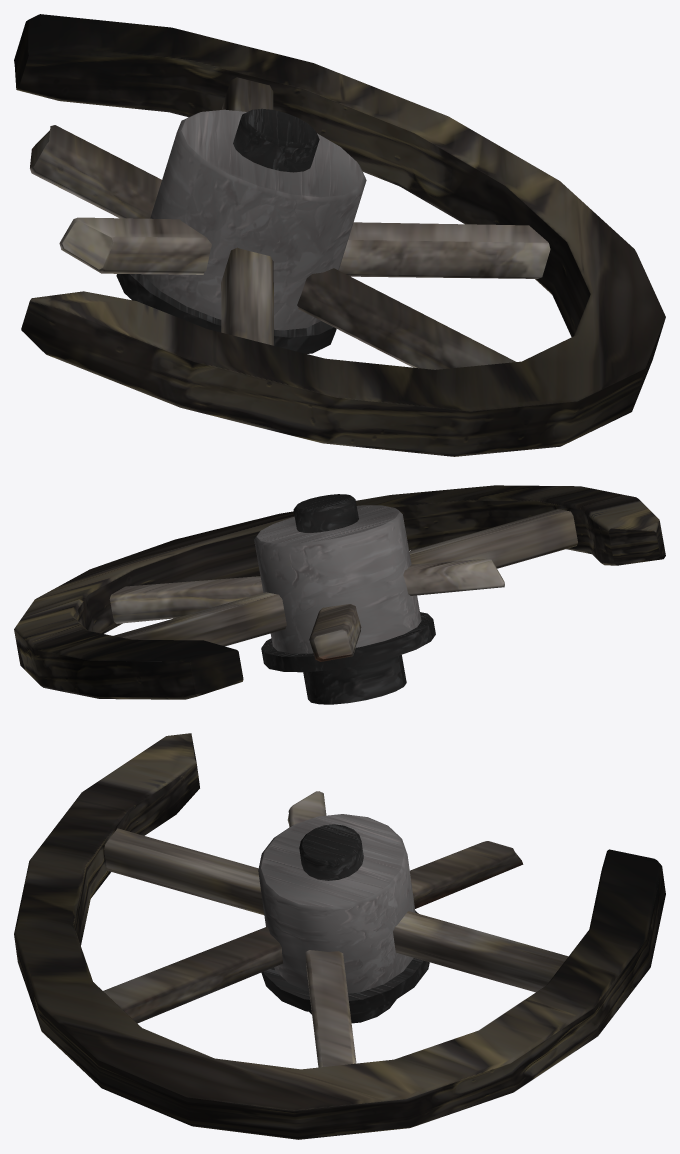
File: WheelDone.fbx
3 views of the same model, one above another, from view 1: azimuth 30°, elevation 25°; view 2: azimuth 150°, elevation 25°; view 3: azimuth 270°, elevation 25° (orthographic). The views are drawn at different scales.
Parts seen in each view (by area): view 1: Cube.007; view 2: Cube.007; view 3: Cube.007.
Part boxes in pixels (box(x1,y1,x2,y2)): Cube.007: box(14, 14, 665, 456); Cube.007: box(14, 485, 665, 704); Cube.007: box(14, 733, 665, 1139).
Bounding box in the file's own units: 79.39 × 27.8 × 86.4.
